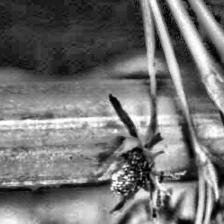Gray Mold: (80, 93, 188, 219)
